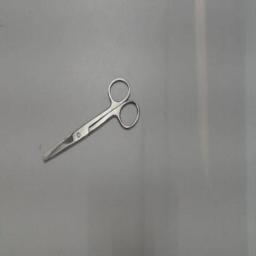Dressing Scissors: (36, 71, 146, 169)
